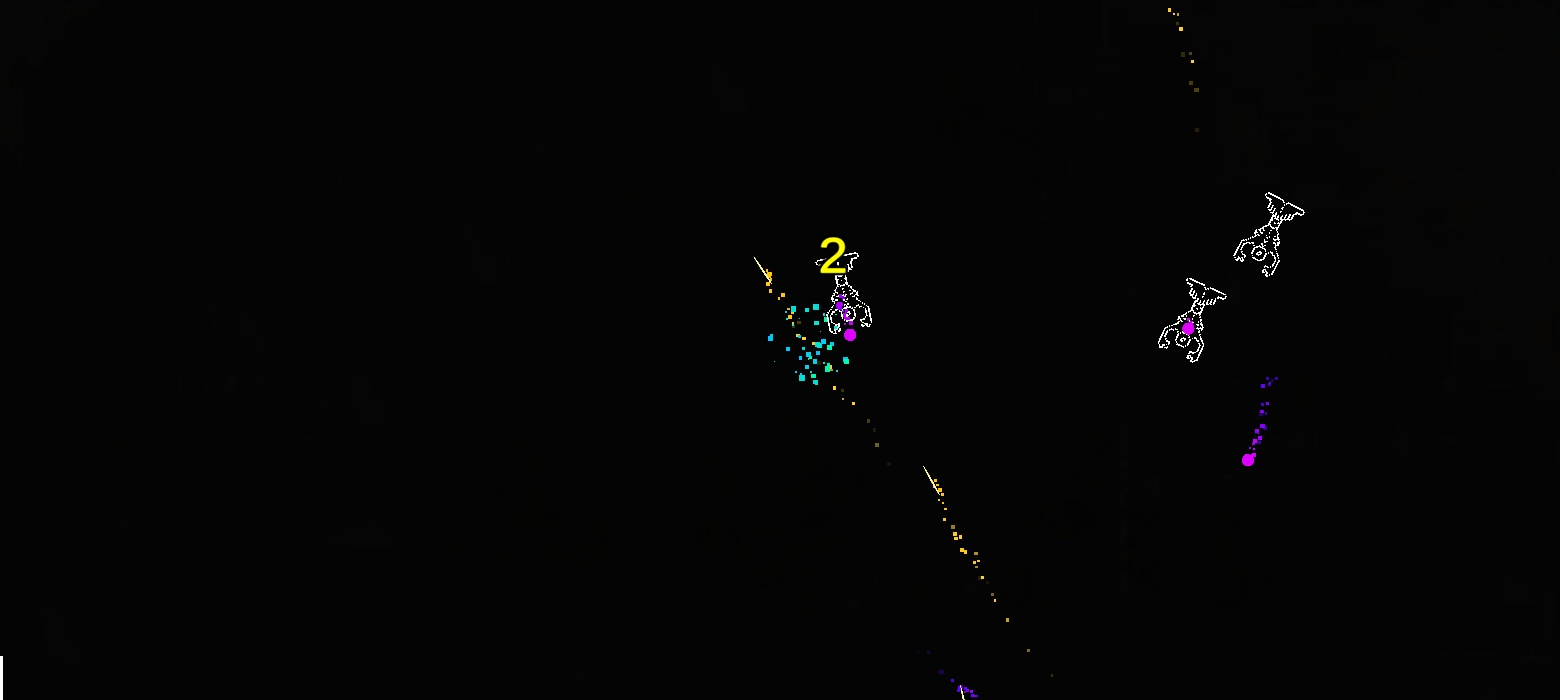enemy: (1232, 191, 1305, 278), (1157, 277, 1227, 363), (815, 252, 873, 335)
